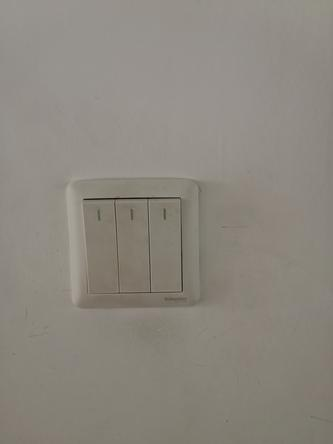switch: (107, 195, 156, 295), (80, 194, 124, 295), (146, 192, 187, 298)
